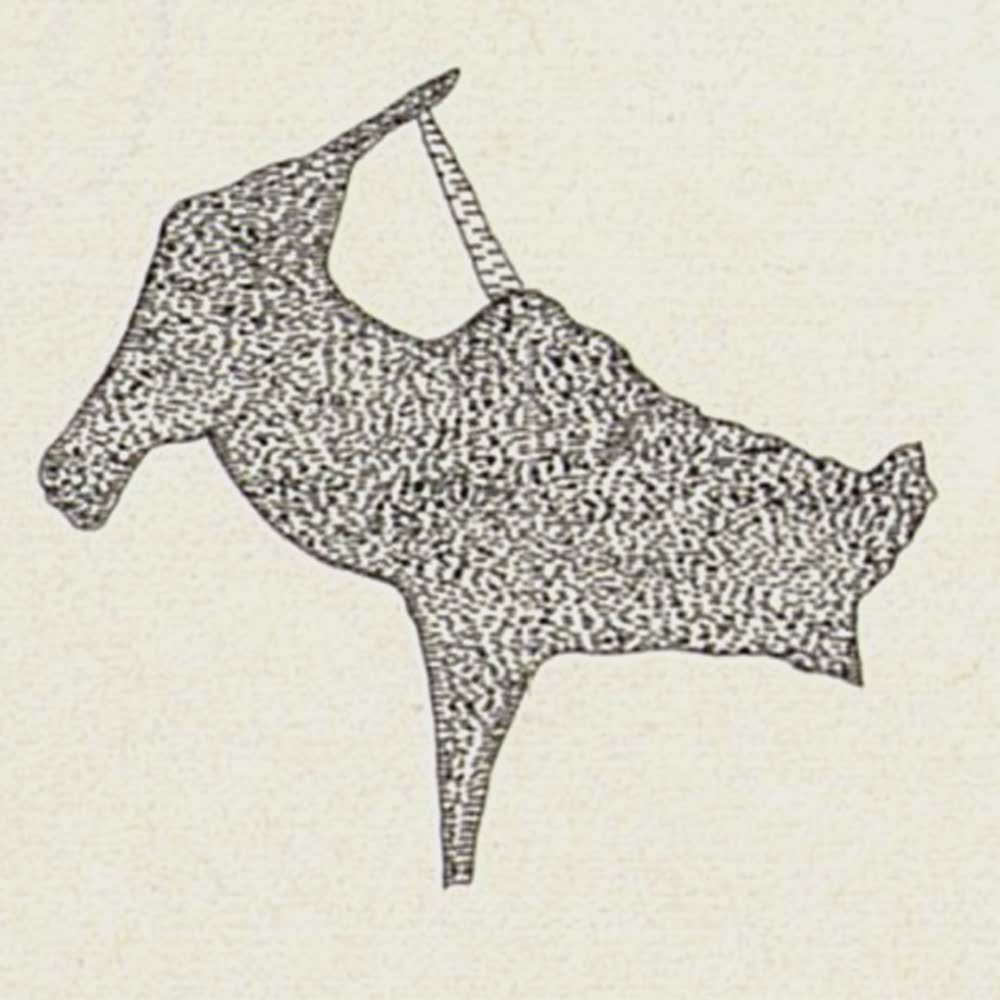animal: (28, 54, 939, 903)
